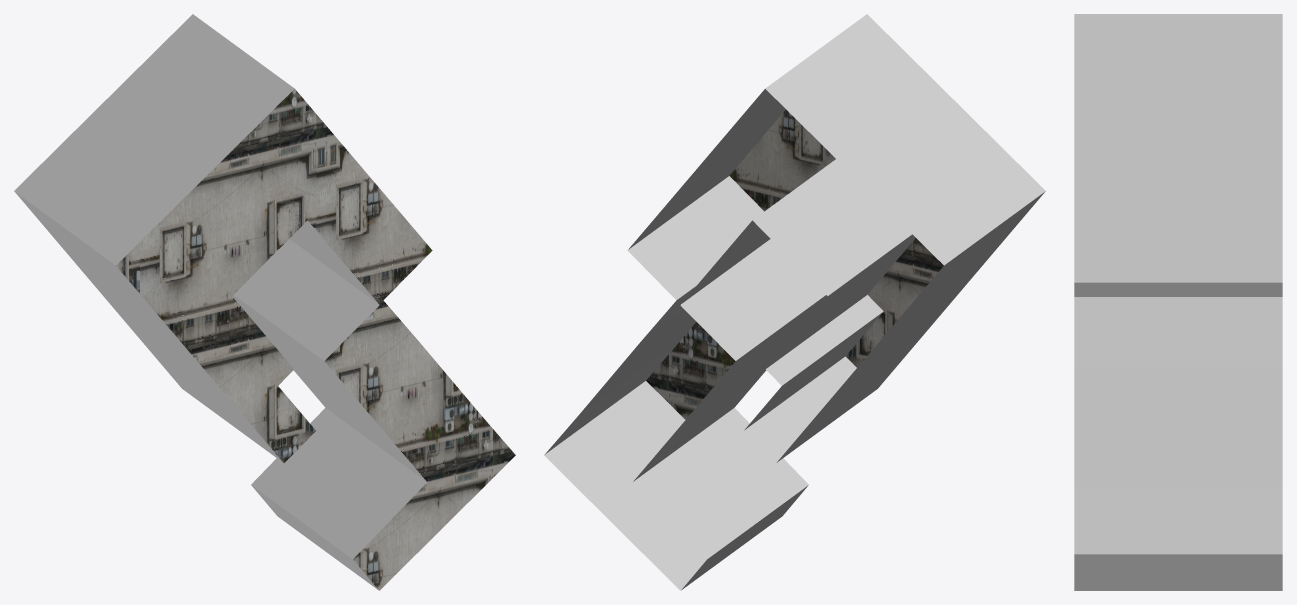
The model's file is geospecific_1620.obj.
The picture shows the model from 3 angles, left to right: view 1: azimuth 30°, elevation 25°; view 2: azimuth 150°, elevation 25°; view 3: azimuth 270°, elevation 25°; orthographic projection. The views are drawn at different scales.
Parts seen in each view (by area): view 1: Building; view 2: Building; view 3: Building.
Boxes of the visible parts, x1,y1,x2,y2 form: Building: (14, 14, 515, 590); Building: (544, 14, 1045, 590); Building: (1074, 14, 1282, 590).
Bounding box in the file's own units: 27.19 × 33.96 × 12.
